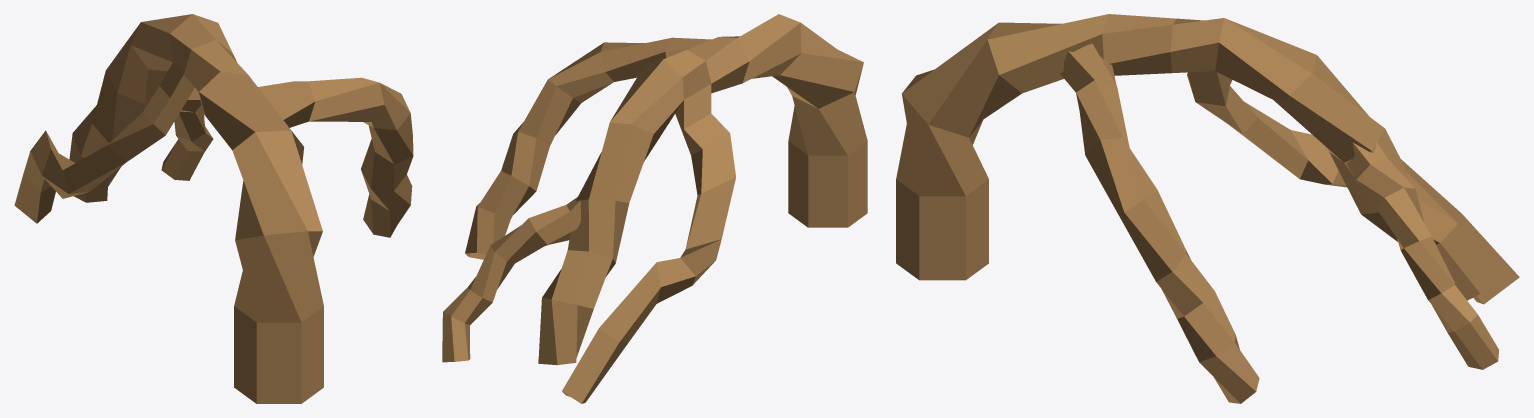
3 renders of one model, left to right at view 1: azimuth 30°, elevation 25°; view 2: azimuth 150°, elevation 25°; view 3: azimuth 270°, elevation 25°, orthographic. The views are drawn at different scales.
Visible parts, largest first — view 1: Cylinder; view 2: Cylinder; view 3: Cylinder.
Part boxes in pixels (<box>): Cylinder: <box>14,14,413,403</box>; Cylinder: <box>442,14,867,403</box>; Cylinder: <box>896,14,1519,403</box>.
Size of the model in its own units: 0.7454 by 0.3968 by 0.4475.
